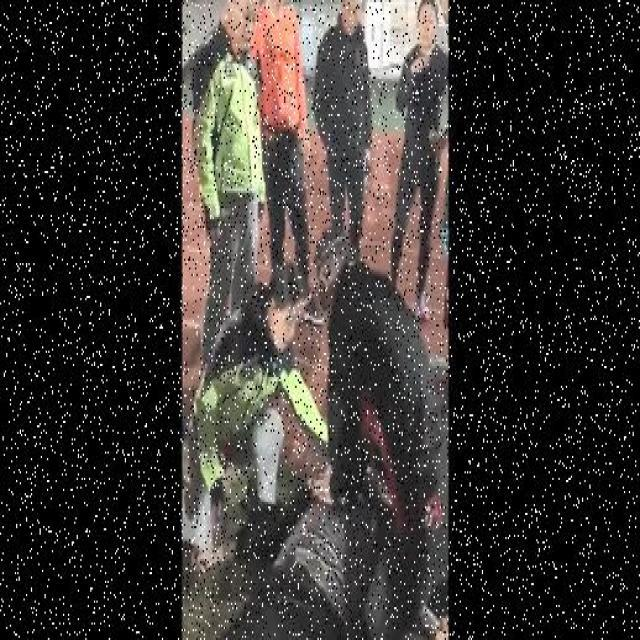fall: (227, 437, 382, 638)
